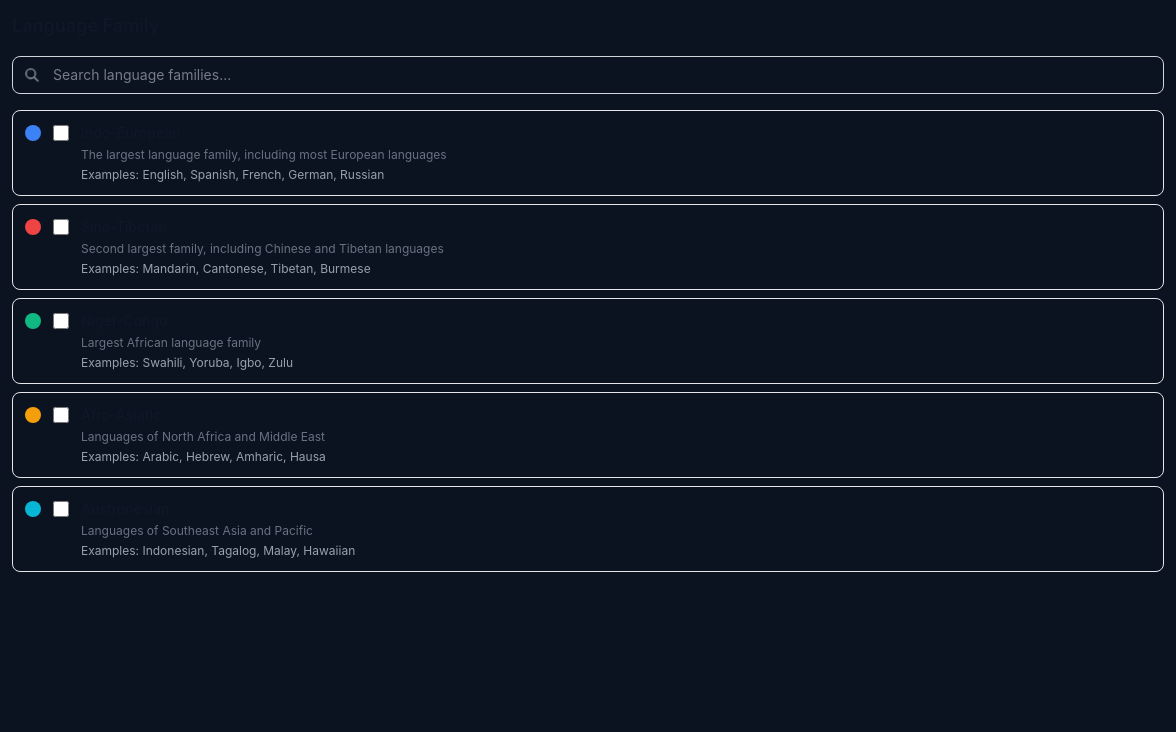
Test: LanguageFamilyFilter › 搜索功能 › 应该在搜索无结果时显示提示
In the field with placeholder "Search language families...": (588, 75) [12,56,1164,94], type "nonexistent"
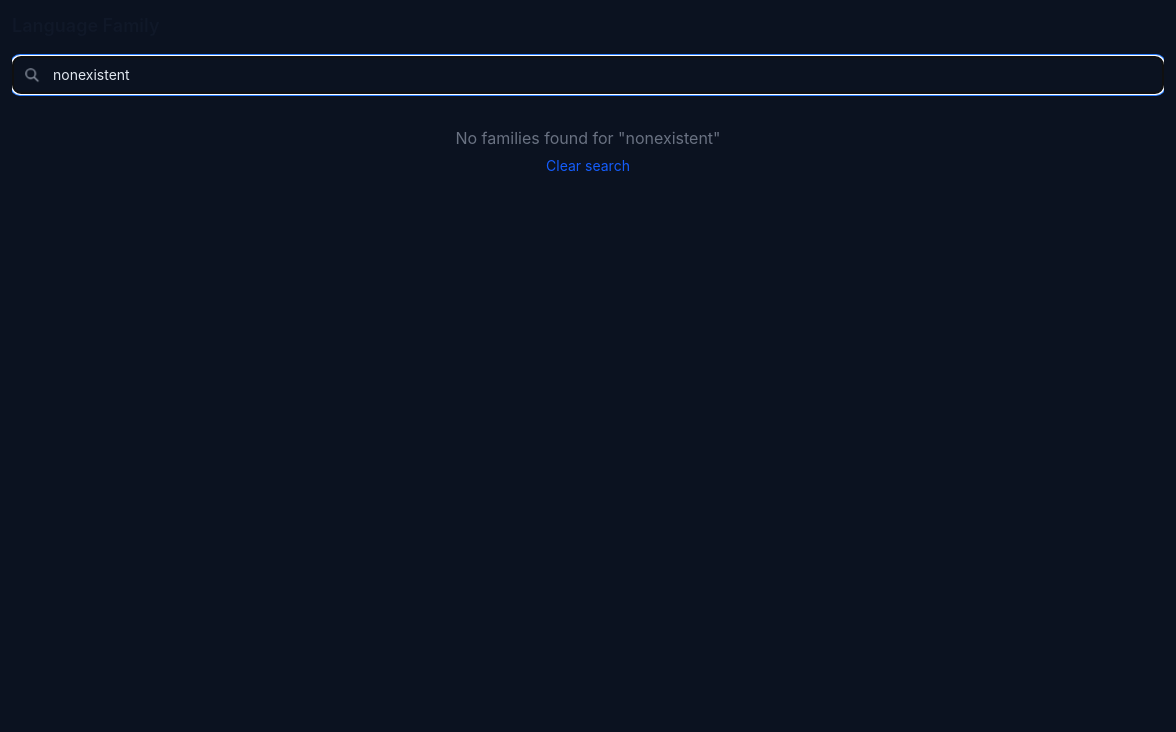
Expected: the text "No families found for \"nonexistent\"" is shown, [456,128,721,148]
Expected: the button "Clear search" is shown, [546,156,630,176]
